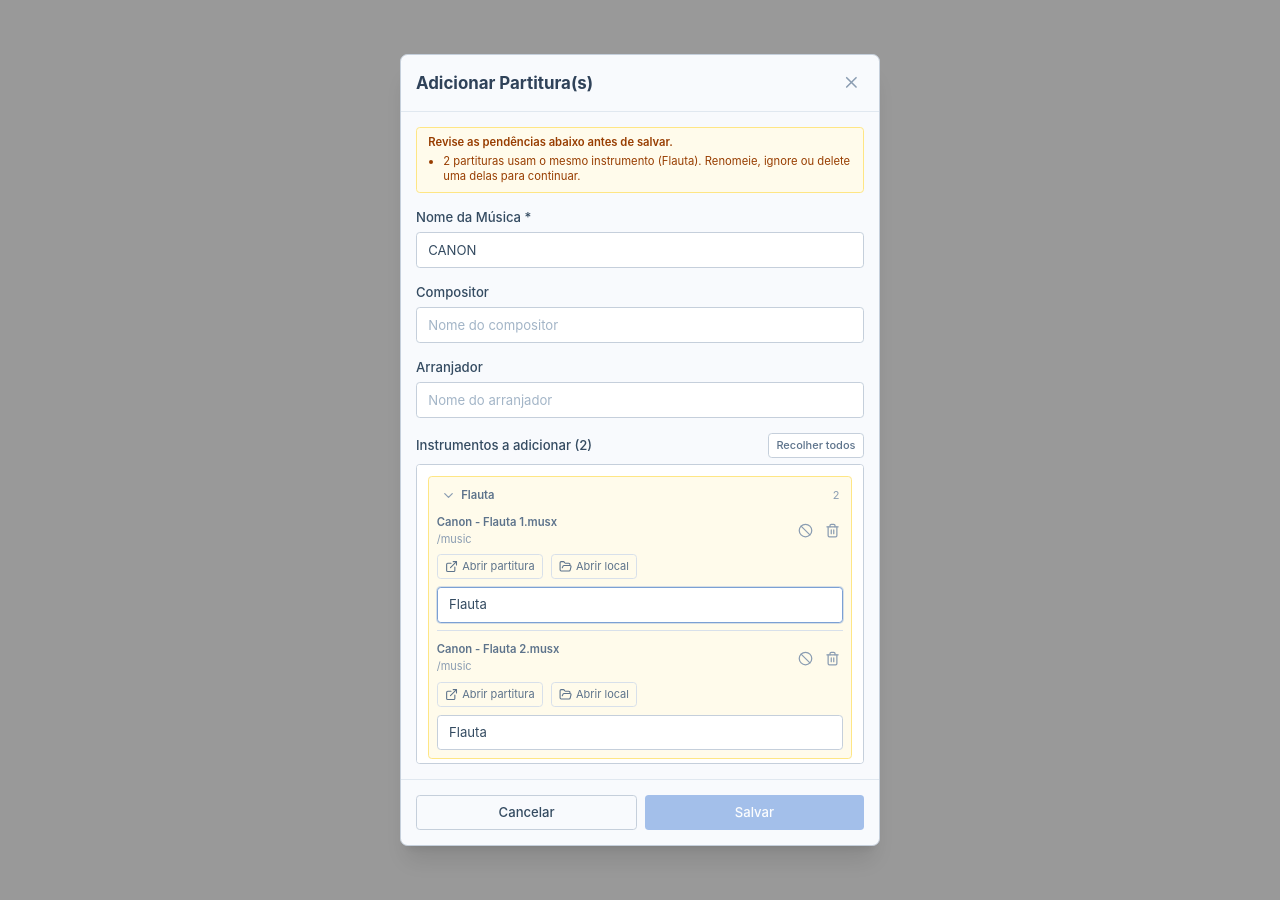
Test: AddFilesModal › should keep focus while editing a repeated instrument until blur
This screenshot has width=1280, height=900.
Replace the text in the field with placeholder "Nome do instrumento" below "Canon - Flauta 1.musx" with "Clarinete". click: coordinates (640, 605)
box: [437,587,843,623]
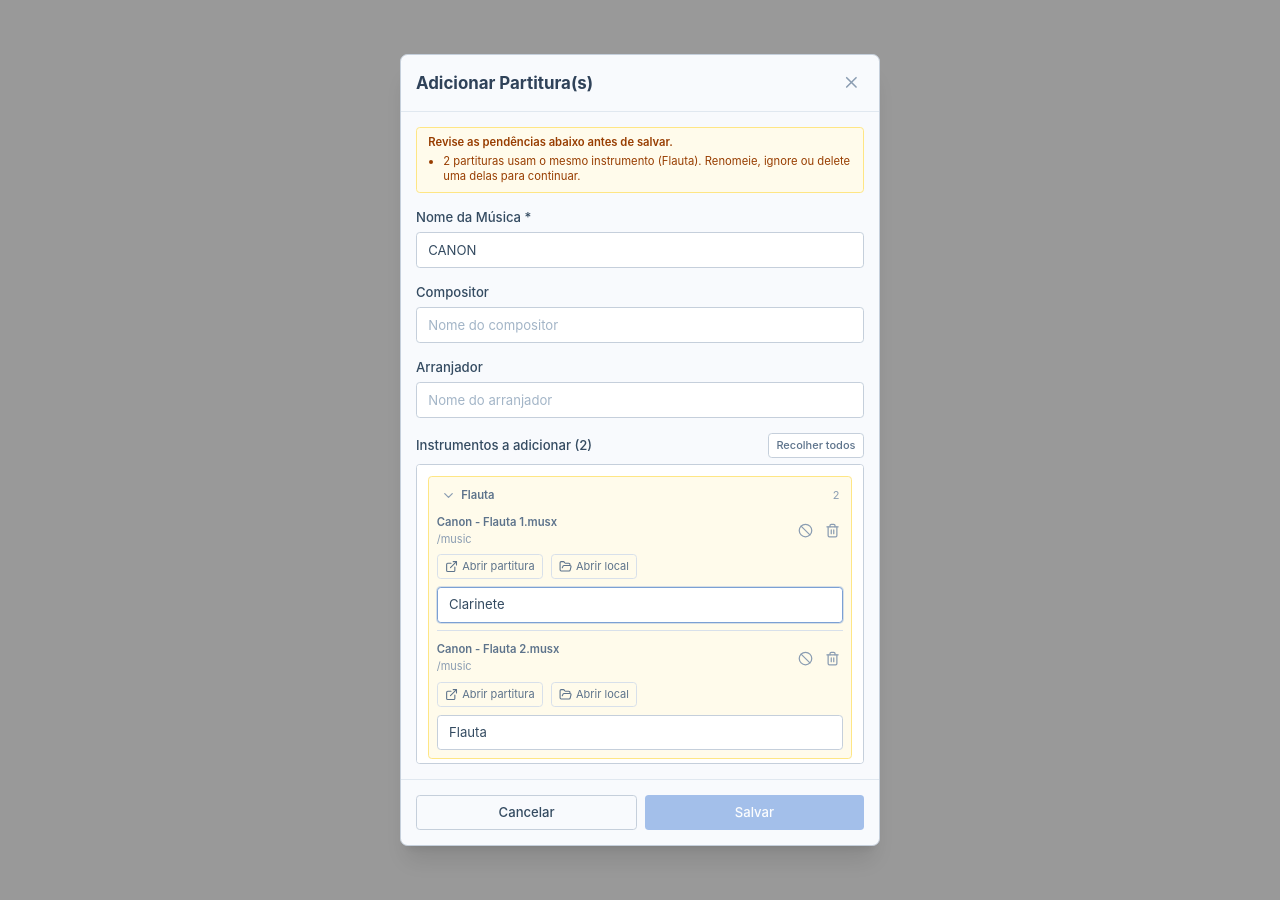
Expected: the list item "2 partituras usam o mesmo instrumento (Flauta). Renomeie, ignore ou delete uma delas para continuar." is shown, [443,154,850,183]
Leave the field with placeholder "Nome do instrumento" below "Canon - Flauta 1.musx", box [437,587,843,623]
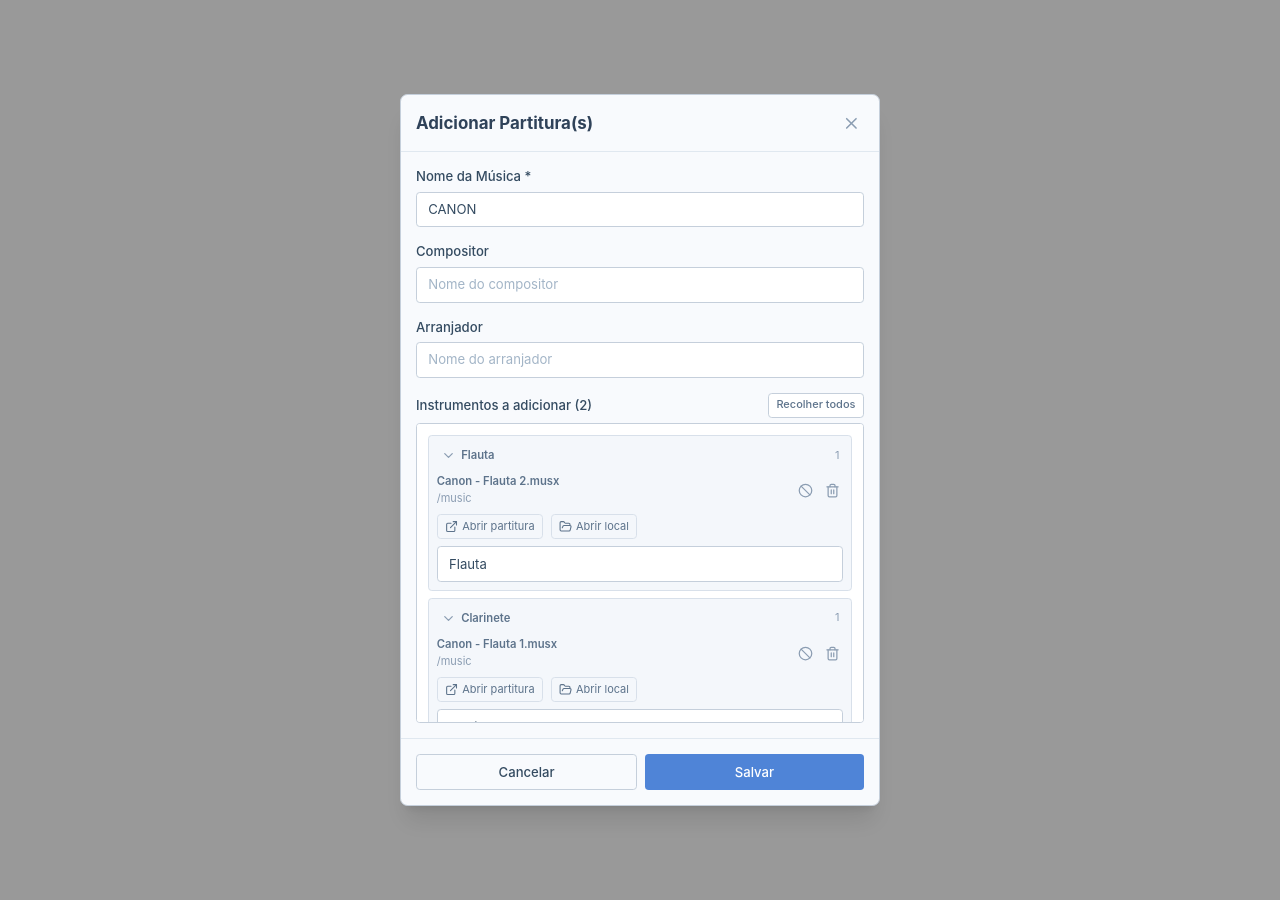
Expected: the list item "2 partituras usam o mesmo instrumento (Flauta). Renomeie, ignore ou delete uma delas para continuar." is gone
